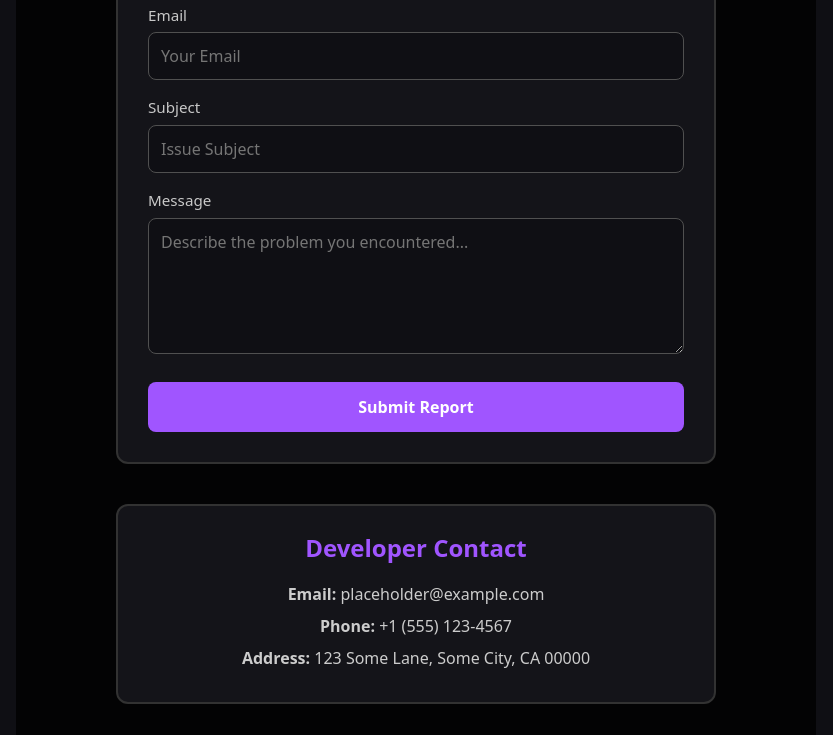
Test case: Contact (Supabase) › shows validation error when submitting empty fields
This screenshot has width=833, height=735.
(page scrolled)
Click the button "Submit Report": (416, 407) 148,382 -> 684,432
(page scrolled)
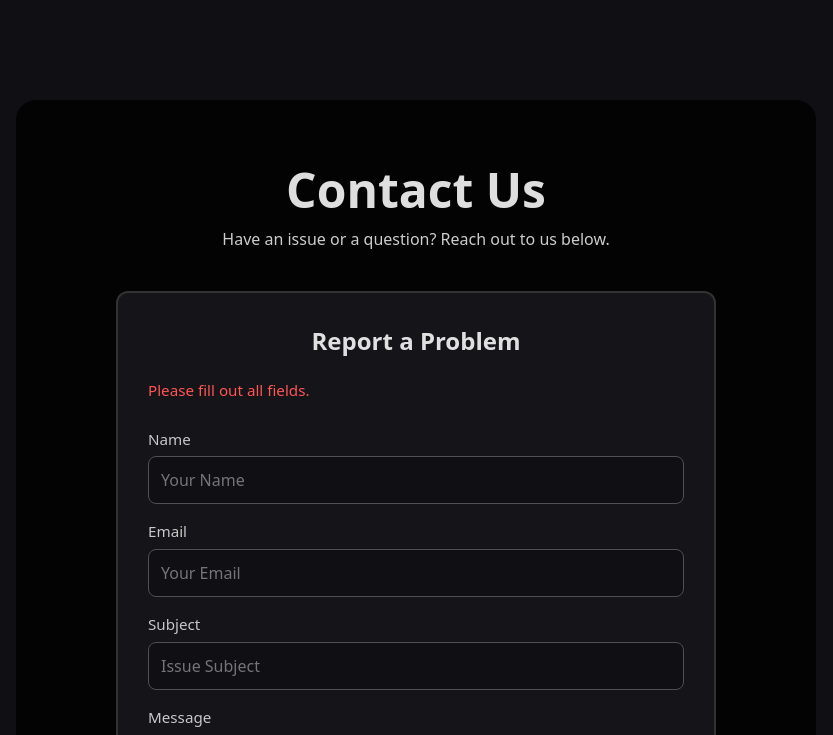
Expected: the text "Please fill out all fields." is shown, 148,380 -> 310,400
